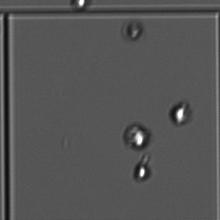Dead Cell: (117, 15, 146, 41)
Living Cell: (165, 98, 197, 130), (121, 119, 153, 151), (127, 151, 159, 183), (67, 1, 96, 13)
